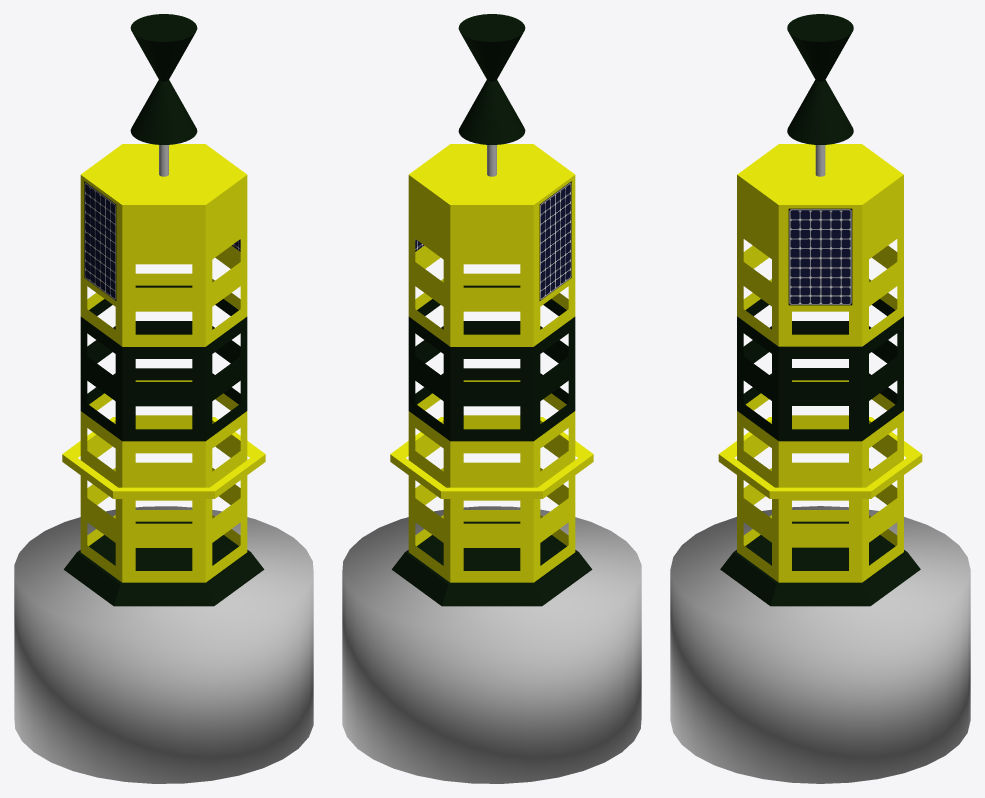
Rendered from Boy-West.gltf.
The picture shows the model from 3 angles, left to right: view 1: azimuth 30°, elevation 25°; view 2: azimuth 150°, elevation 25°; view 3: azimuth 270°, elevation 25°; orthographic projection.
Parts seen in each view (by area): view 1: Cylinder.010, Cylinder.011, Cylinder.009, Plane.004, Cylinder.008, Cone 2.003, Cone 1.004; view 2: Cylinder.010, Cylinder.011, Cylinder.009, Plane.004, Cylinder.008, Cone 2.003, Cone 1.004; view 3: Cylinder.010, Cylinder.011, Cylinder.009, Plane.005, Cylinder.008, Cone 2.003, Cone 1.004.
Part boxes in pixels (left/top/right/bottom): Cylinder.010: left=14, top=506, right=313, bottom=783; Cylinder.011: left=80, top=144, right=247, bottom=582; Cylinder.009: left=63, top=521, right=264, bottom=606; Plane.004: left=84, top=181, right=116, bottom=300; Cylinder.008: left=62, top=417, right=265, bottom=498; Cone 2.003: left=130, top=14, right=197, bottom=81; Cone 1.004: left=130, top=80, right=197, bottom=144; Cylinder.010: left=342, top=506, right=641, bottom=783; Cylinder.011: left=408, top=144, right=575, bottom=582; Cylinder.009: left=391, top=521, right=592, bottom=606; Plane.004: left=539, top=181, right=571, bottom=300; Cylinder.008: left=390, top=417, right=593, bottom=498; Cone 2.003: left=458, top=14, right=525, bottom=81; Cone 1.004: left=458, top=80, right=525, bottom=144; Cylinder.010: left=670, top=506, right=970, bottom=783; Cylinder.011: left=737, top=144, right=903, bottom=582; Cylinder.009: left=720, top=521, right=920, bottom=606; Plane.005: left=788, top=208, right=852, bottom=305; Cylinder.008: left=718, top=417, right=922, bottom=498; Cone 2.003: left=787, top=14, right=853, bottom=81; Cone 1.004: left=787, top=80, right=853, bottom=144.
Size of the model in its own units: 1.8 by 4.58 by 1.8.
Materials: 4 (1 with a texture image).
